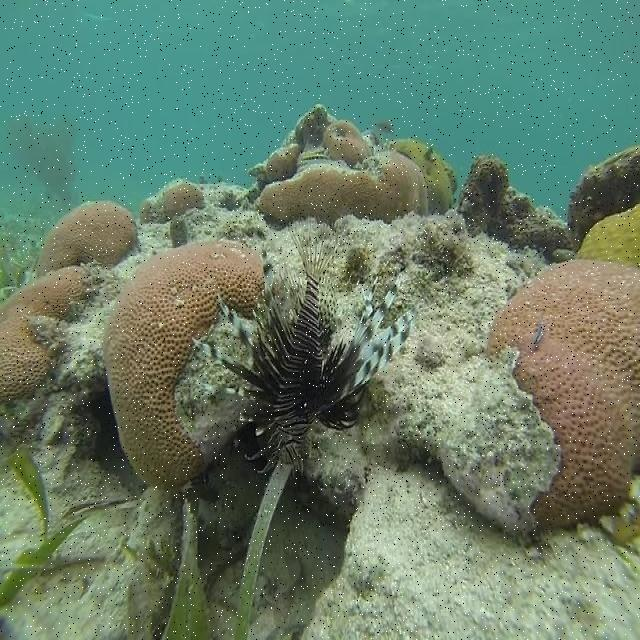aquatic plants: (164, 462, 295, 639), (3, 447, 94, 609)
fish: (190, 231, 414, 477)
reefs: (489, 258, 639, 529), (101, 240, 262, 490), (459, 150, 639, 262), (258, 149, 429, 224), (0, 265, 90, 396), (38, 200, 139, 279), (390, 138, 458, 216), (579, 206, 638, 269), (140, 183, 204, 225), (324, 121, 369, 161), (265, 144, 300, 180)
